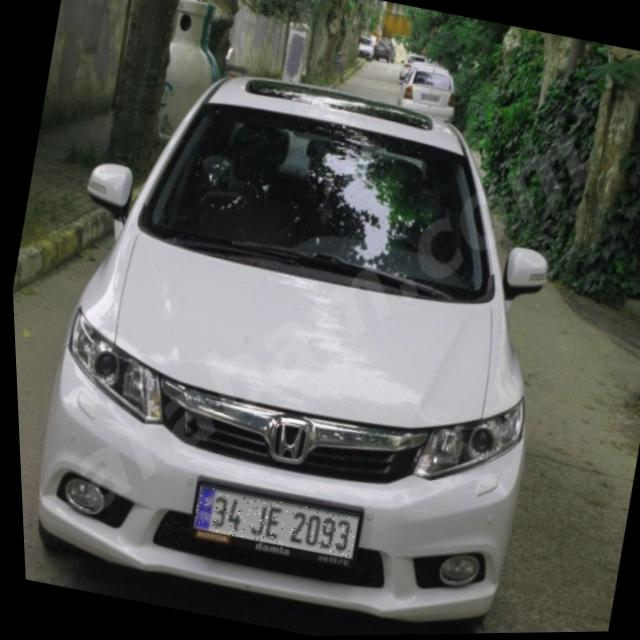license_plate: (186, 485, 355, 562)
